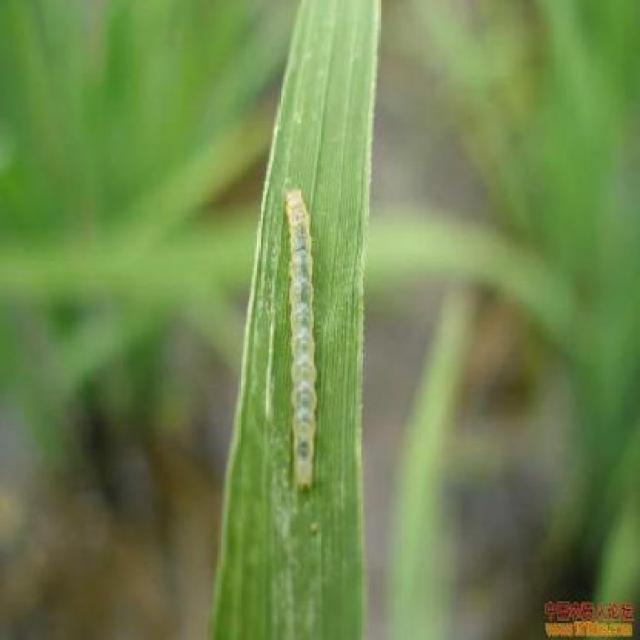leaf-folder: (266, 189, 336, 509)
